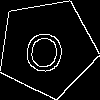O: (22, 22, 67, 74)
